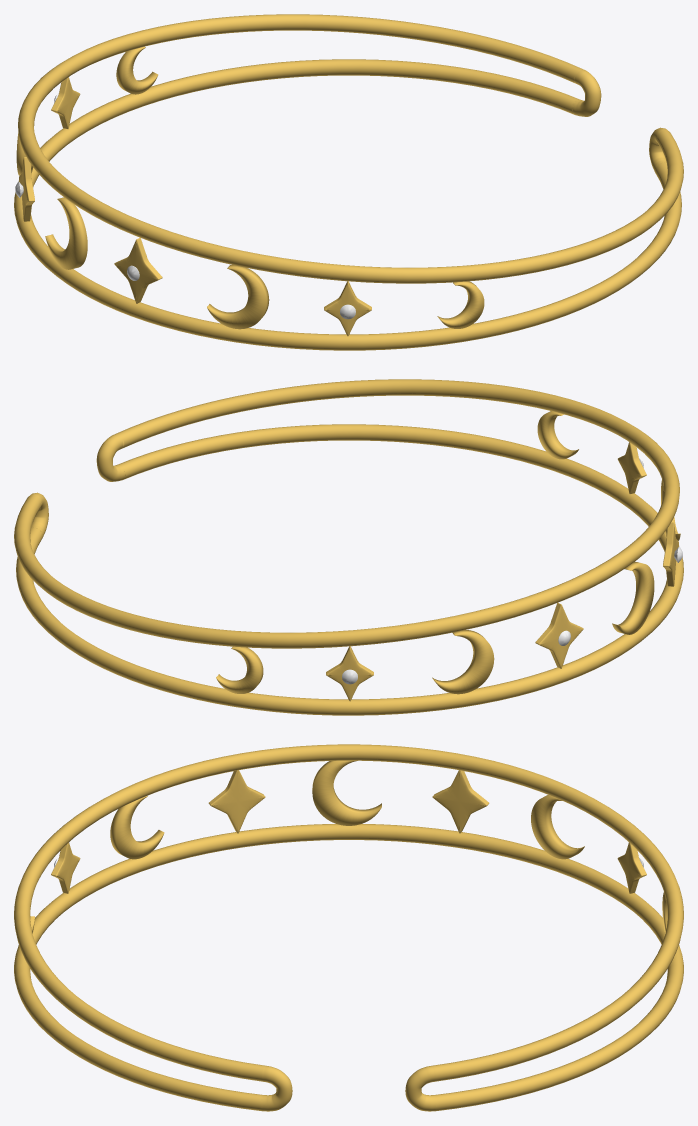
Rendered from 5-gold.fbx.
The picture shows the model from 3 angles, top to bottom: view 1: azimuth 30°, elevation 25°; view 2: azimuth 150°, elevation 25°; view 3: azimuth 270°, elevation 25°; orthographic projection.
Parts seen in each view (by area): view 1: Arc002, Circle010, Circle007, Star005, Circle009, Circle011, Star007, Star006, Star004; view 2: Arc002, Circle008, Circle007, Star004, Circle009, Star006, Circle011, Star007, Star005; view 3: Arc002, Circle007, Circle010, Star004, Star005, Circle008, Star006, Star007.
Part boxes in pixels (left/top/right/bottom): Arc002: left=14, top=14, right=683, bottom=350; Circle010: left=207, top=265, right=269, bottom=329; Circle007: left=45, top=197, right=87, bottom=269; Star005: left=114, top=237, right=162, bottom=303; Circle009: left=116, top=46, right=158, bottom=94; Circle011: left=437, top=281, right=484, bottom=328; Star007: left=324, top=281, right=371, bottom=336; Star006: left=51, top=77, right=80, bottom=128; Star004: left=19, top=157, right=34, bottom=221; Arc002: left=14, top=379, right=683, bottom=715; Circle008: left=432, top=630, right=494, bottom=694; Circle007: left=612, top=561, right=654, bottom=634; Star004: left=535, top=602, right=583, bottom=668; Circle009: left=216, top=646, right=263, bottom=693; Star006: left=326, top=646, right=373, bottom=701; Circle011: left=537, top=411, right=578, bottom=459; Star007: left=617, top=442, right=646, bottom=493; Star005: left=663, top=522, right=678, bottom=586; Arc002: left=14, top=744, right=683, bottom=1111; Circle007: left=312, top=760, right=381, bottom=825; Circle010: left=110, top=796, right=164, bottom=859; Star004: left=432, top=770, right=489, bottom=833; Star005: left=208, top=770, right=265, bottom=833; Circle008: left=531, top=795, right=584, bottom=859; Star006: left=617, top=842, right=646, bottom=893; Star007: left=51, top=842, right=80, bottom=893.
Bounding box in the file's own units: 20.32 × 3.24 × 20.5.
